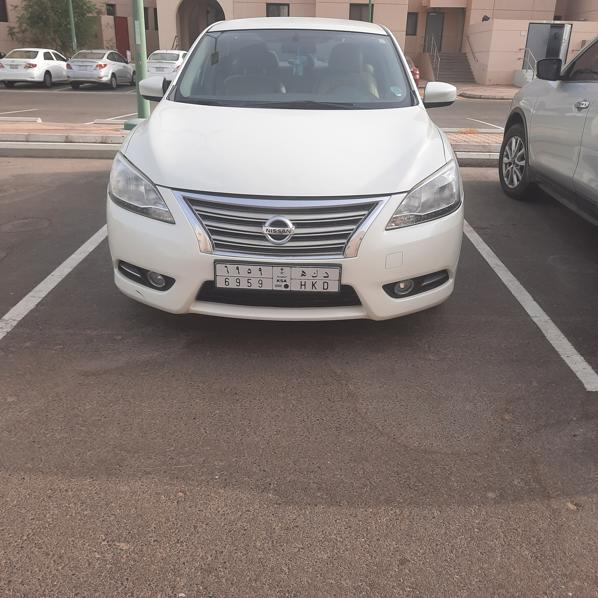numberplate: (216, 262, 342, 292)
